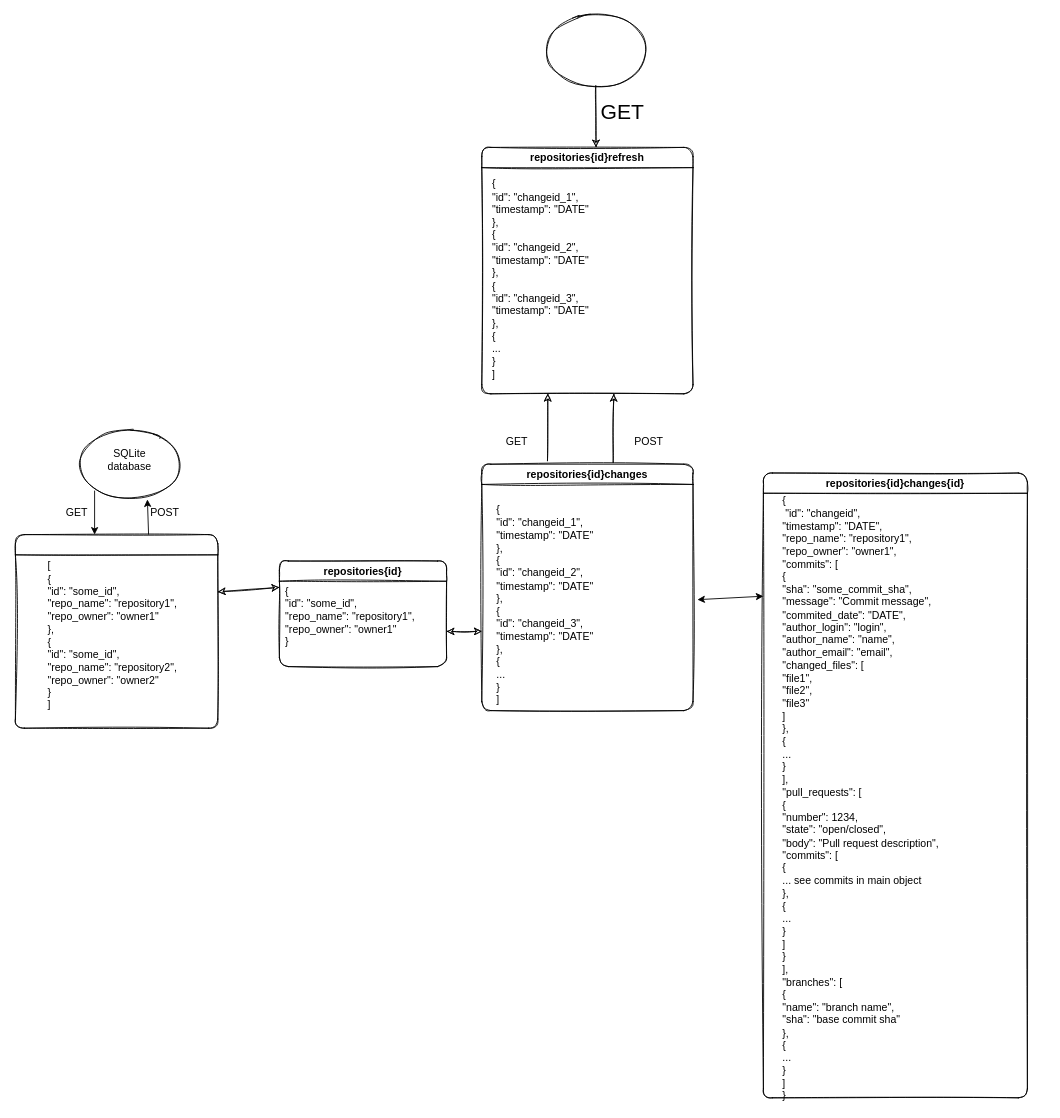
This 1060x1118 diagram has some shape labels left out. The shapes that lost their labels are listed below. From the top down, each one's box as (x1, y1, x2, y2) in pixels, then its label:
(543, 15, 649, 86): GitHub
(15, 534, 218, 728): repositories
